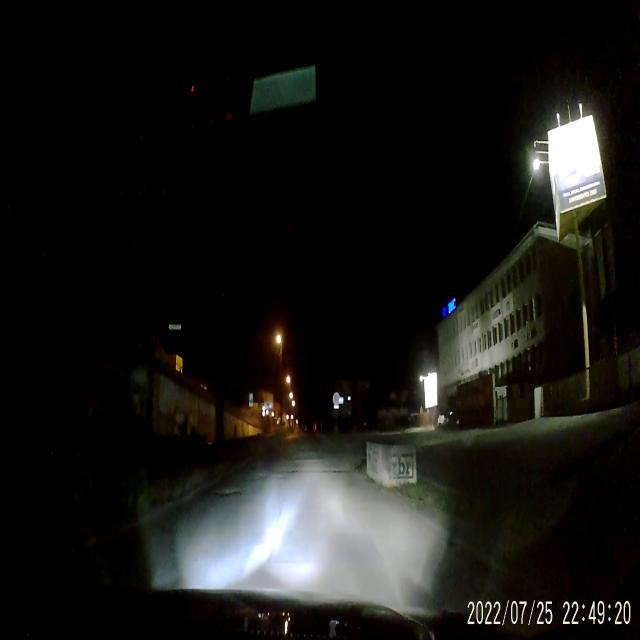Pothole: (208, 484, 242, 506)
